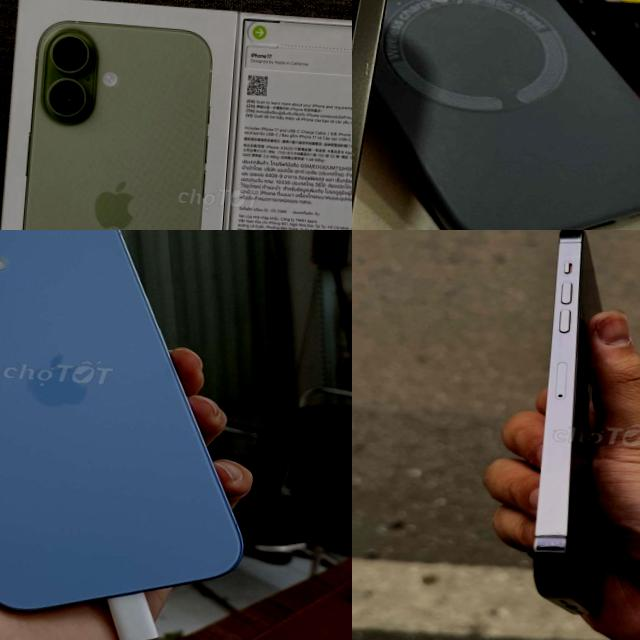gen_14: (522, 230, 626, 625)
gen_17: (0, 230, 287, 630), (7, 10, 220, 230)
